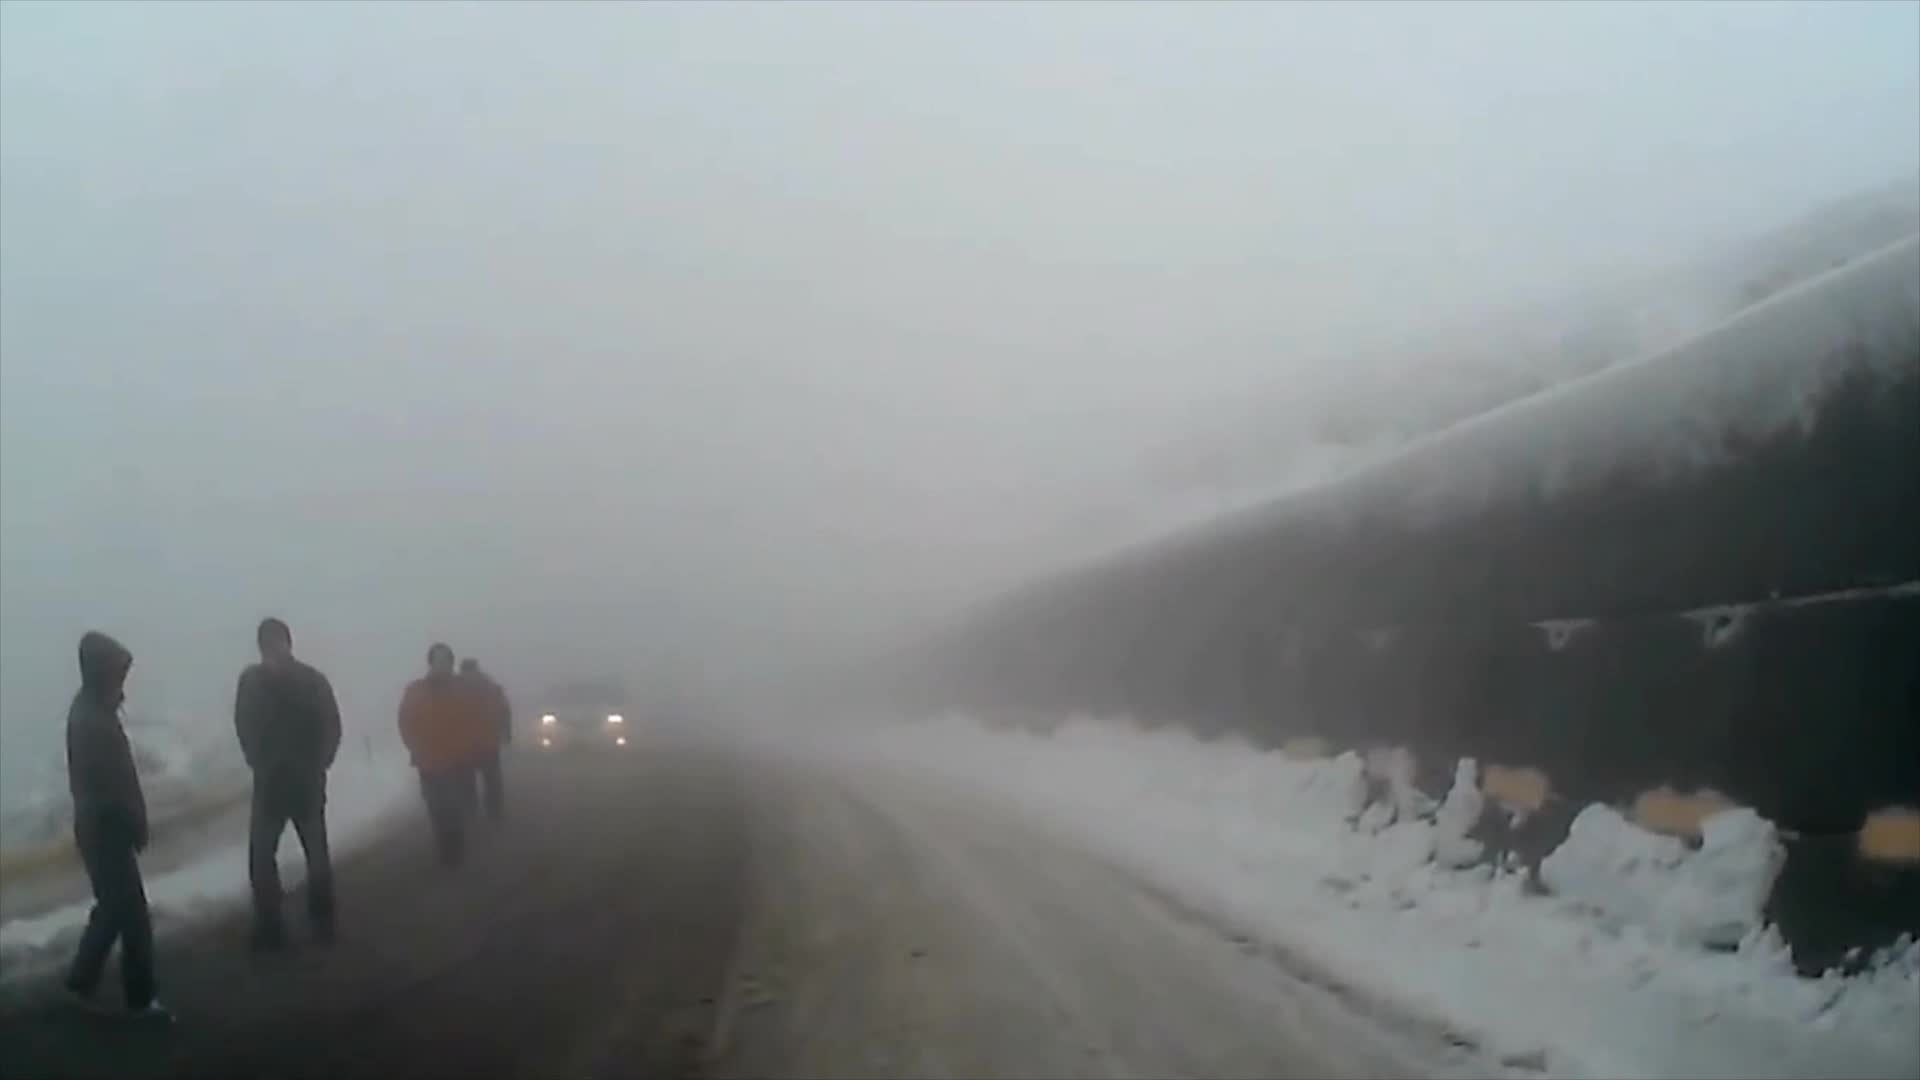pedestrian: (58, 631, 176, 1025), (231, 618, 344, 954), (393, 642, 489, 871)
vehicle: (535, 685, 633, 769)
